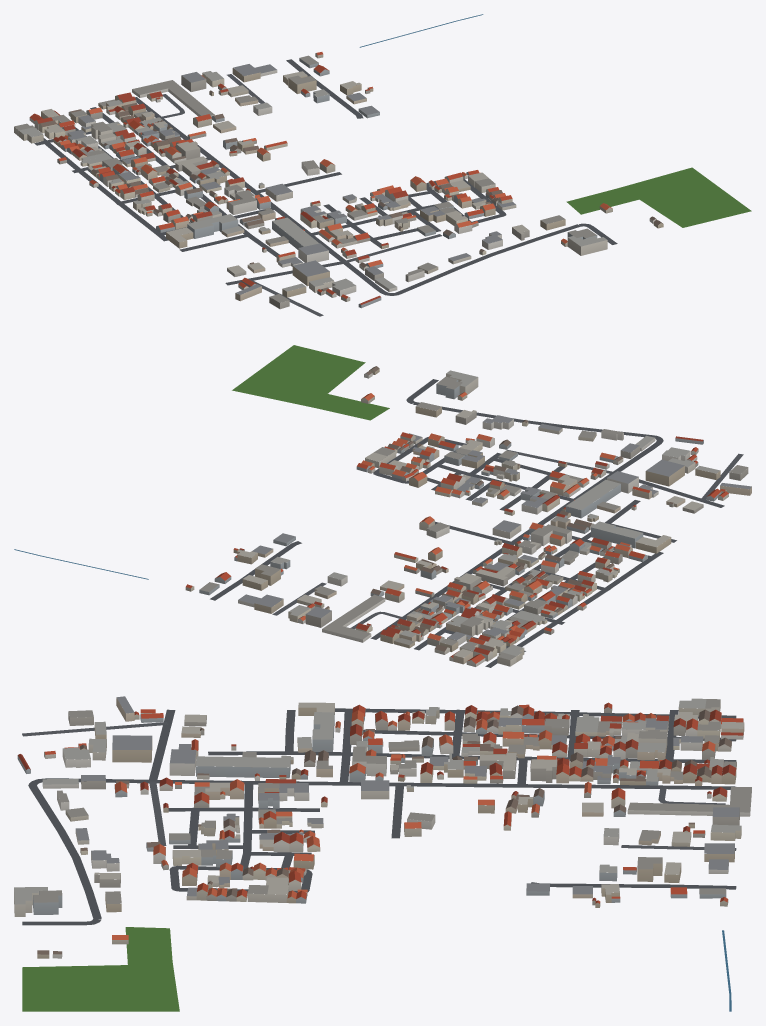
3 renders of one model, top to bottom at view 1: azimuth 30°, elevation 25°; view 2: azimuth 150°, elevation 25°; view 3: azimuth 270°, elevation 25°, orthographic. The views are drawn at different scales.
Visible parts, largest first — view 1: buildings_roofs, buildings_walls, roads, landuse; view 2: buildings_roofs, buildings_walls, roads, landuse; view 3: buildings_roofs, buildings_walls, roads, landuse.
Part boxes in pixels (x1,y1,x2,y2): buildings_roofs: (14, 52, 662, 304); buildings_walls: (14, 53, 663, 309); roads: (34, 59, 617, 316); landuse: (566, 167, 751, 227); buildings_roofs: (186, 366, 751, 663); buildings_walls: (185, 369, 751, 666); roads: (210, 379, 743, 667); landuse: (232, 345, 389, 420); buildings_roofs: (14, 696, 751, 954); buildings_walls: (14, 698, 751, 958); roads: (22, 708, 736, 925); landuse: (22, 927, 179, 1011).
Bounding box in the file's own units: 509 × 9.61 × 517.
